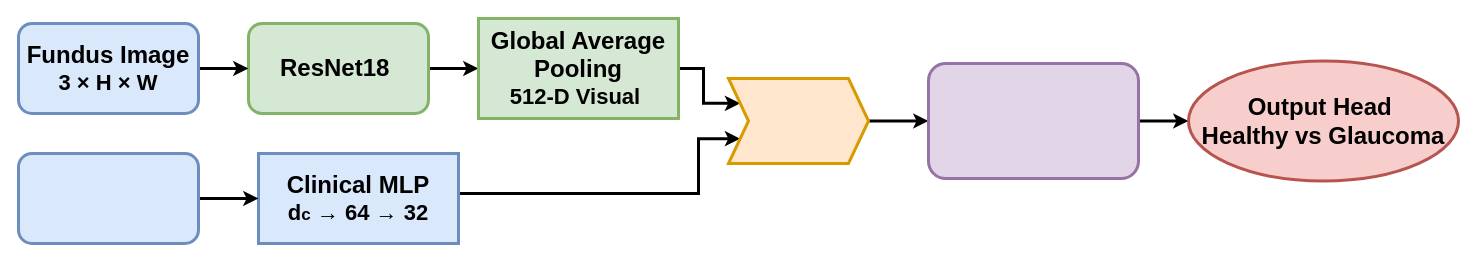
Image size: 1477x262. Some labels were removed from this diagram. Each missing label, with the centre of its shape:
"Clinical Vector c ∈ R d c" belongs at (108,198).
"Concat" belongs at (798,120).
"Fusion Fully Connected Head 544→ 64 → 2" belongs at (1033,121).
